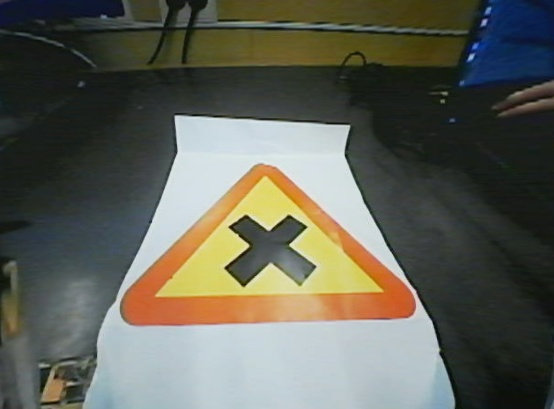junction: (112, 160, 425, 333)
